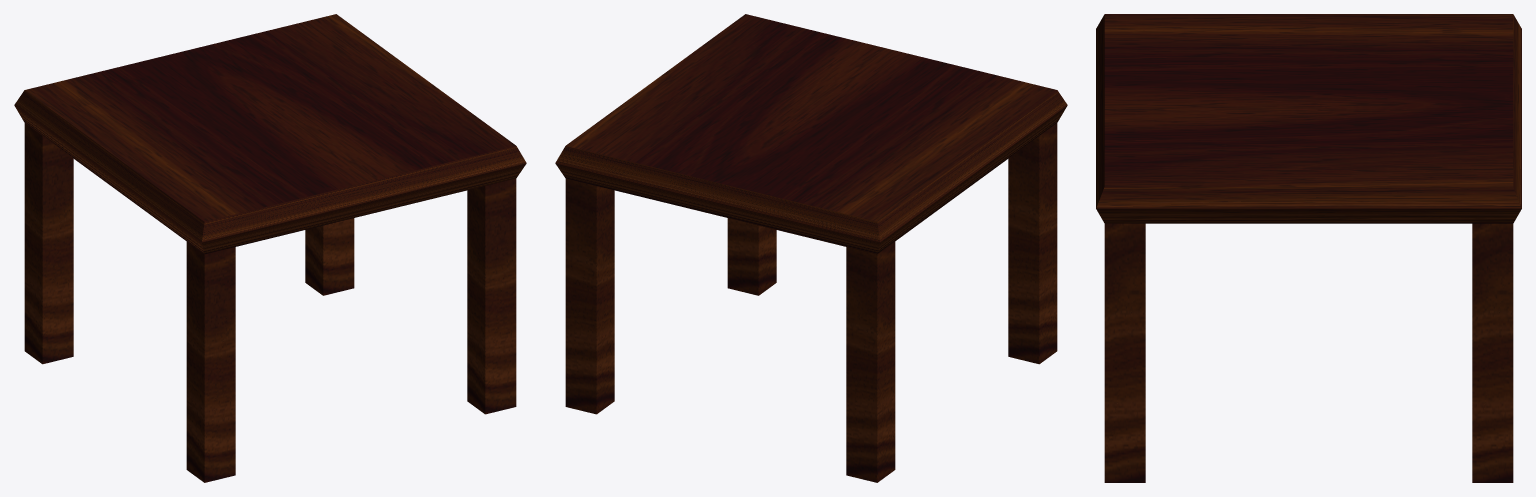
File: table2.glb
The picture shows the model from 3 angles, left to right: view 1: azimuth 30°, elevation 25°; view 2: azimuth 150°, elevation 25°; view 3: azimuth 270°, elevation 25°; orthographic projection. The views are drawn at different scales.
Parts seen in each view (by area): view 1: Cube, Cube.003, Cube.004, Cube.001, Cube.002; view 2: Cube, Cube.001, Cube.002, Cube.003, Cube.004; view 3: Cube, Cube.002, Cube.004.
Boxes of the visible parts, box(x1,y1,x2,y2) form: Cube: box(14, 14, 526, 254); Cube.003: box(186, 242, 235, 482); Cube.004: box(467, 178, 516, 414); Cube.001: box(24, 123, 73, 364); Cube.002: box(305, 218, 354, 295); Cube: box(555, 14, 1067, 254); Cube.001: box(846, 242, 895, 482); Cube.002: box(565, 178, 614, 414); Cube.003: box(1008, 123, 1057, 364); Cube.004: box(727, 218, 776, 295); Cube: box(1096, 14, 1521, 223); Cube.002: box(1472, 223, 1513, 482); Cube.004: box(1104, 223, 1145, 482).
Size of the model in its own units: 2.08 by 1.6 by 2.08.
1 material, 1 textured.
